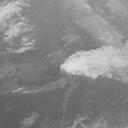cyclone: (58, 48, 105, 81)
